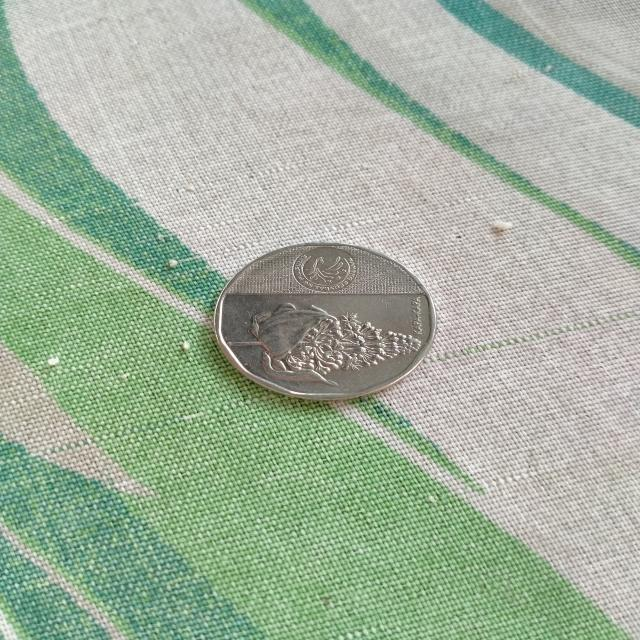10_New_Back: (207, 294, 441, 391)
